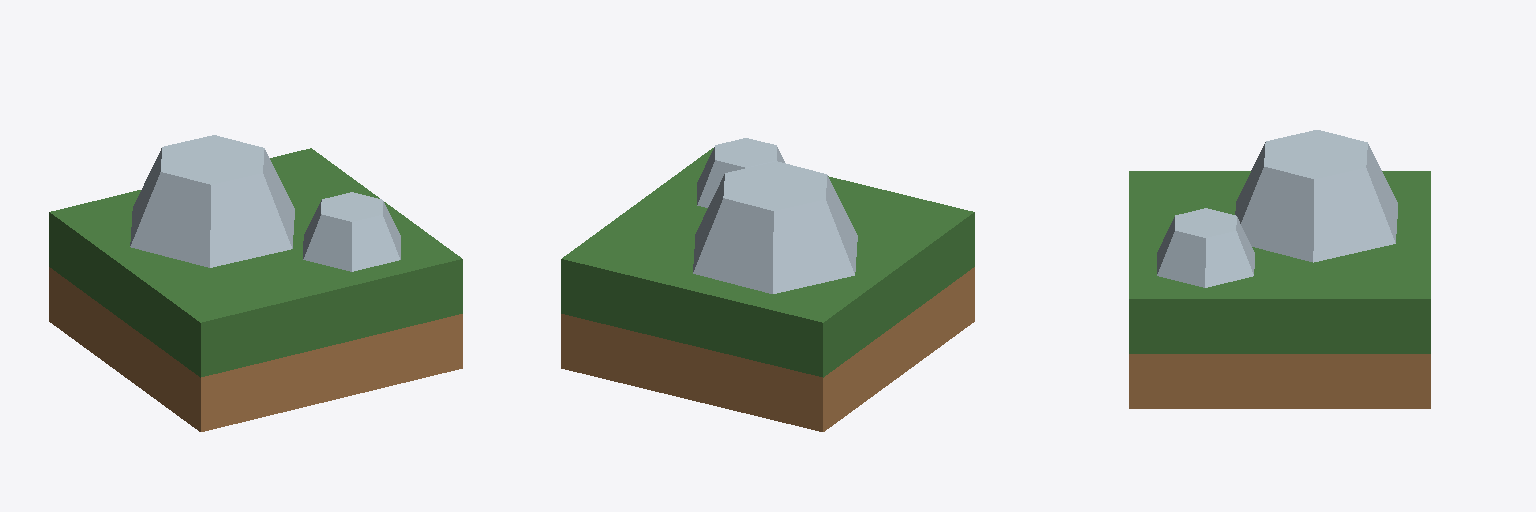
File: tile_078.obj
3 views of the same model, side by side, from view 1: azimuth 30°, elevation 25°; view 2: azimuth 150°, elevation 25°; view 3: azimuth 270°, elevation 25° (orthographic).
Parts seen in each view (by area): view 1: tile_078, Group; view 2: tile_078, Group; view 3: tile_078, Group.
Boxes of the visible parts, x1=… form: tile_078: x1=49, y1=148, x2=462, y2=431; Group: x1=130, y1=135, x2=400, y2=271; tile_078: x1=561, y1=148, x2=974, y2=431; Group: x1=693, y1=138, x2=857, y2=293; tile_078: x1=1129, y1=171, x2=1430, y2=408; Group: x1=1157, y1=130, x2=1397, y2=287.
Size of the model in its own units: 1 by 0.65 by 1.